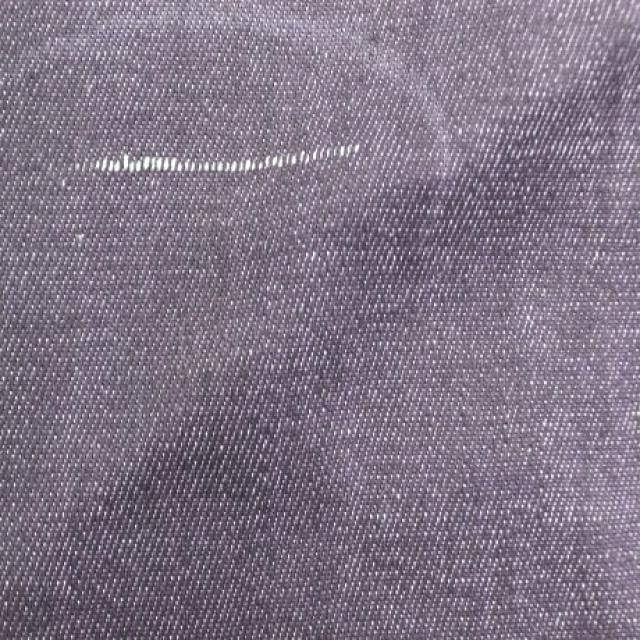stains: (28, 114, 440, 252)
